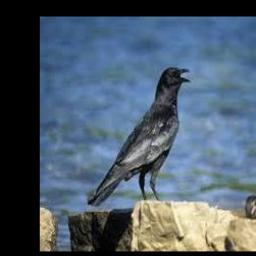Crow: (87, 67, 190, 207)
